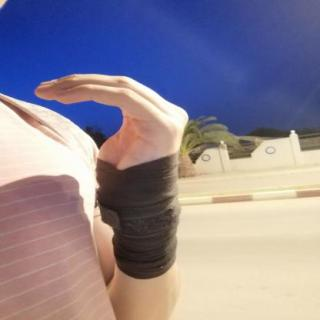HAA: (19, 65, 202, 197)
